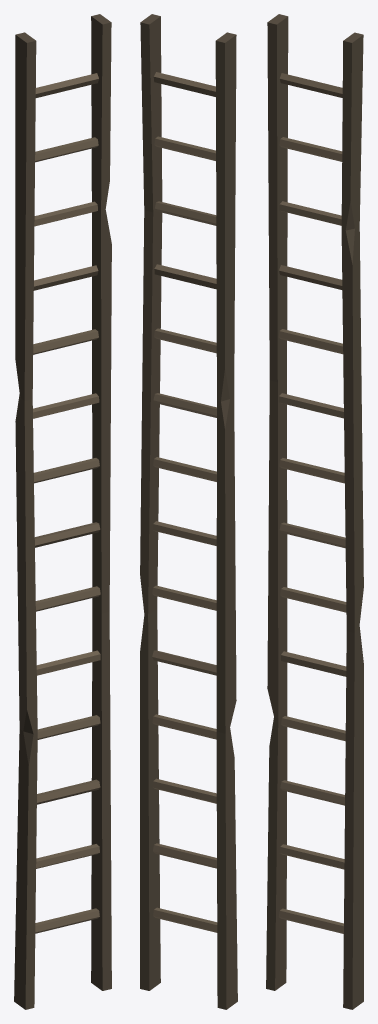
The model's file is SM_Prop_Ladder_01.glb.
3 views of the same model, side by side, from view 1: azimuth 30°, elevation 25°; view 2: azimuth 150°, elevation 25°; view 3: azimuth 330°, elevation 25° (orthographic).
Parts seen in each view (by area): view 1: SM_Prop_Ladder_01; view 2: SM_Prop_Ladder_01; view 3: SM_Prop_Ladder_01.
Part boxes in pixels (bbox=[...]): SM_Prop_Ladder_01: bbox=[14, 14, 111, 1009]; SM_Prop_Ladder_01: bbox=[140, 14, 237, 1009]; SM_Prop_Ladder_01: bbox=[266, 14, 363, 1009].
Bounding box in the file's own units: 0.7016 × 7.5 × 0.1607.
1 material, 1 textured.
